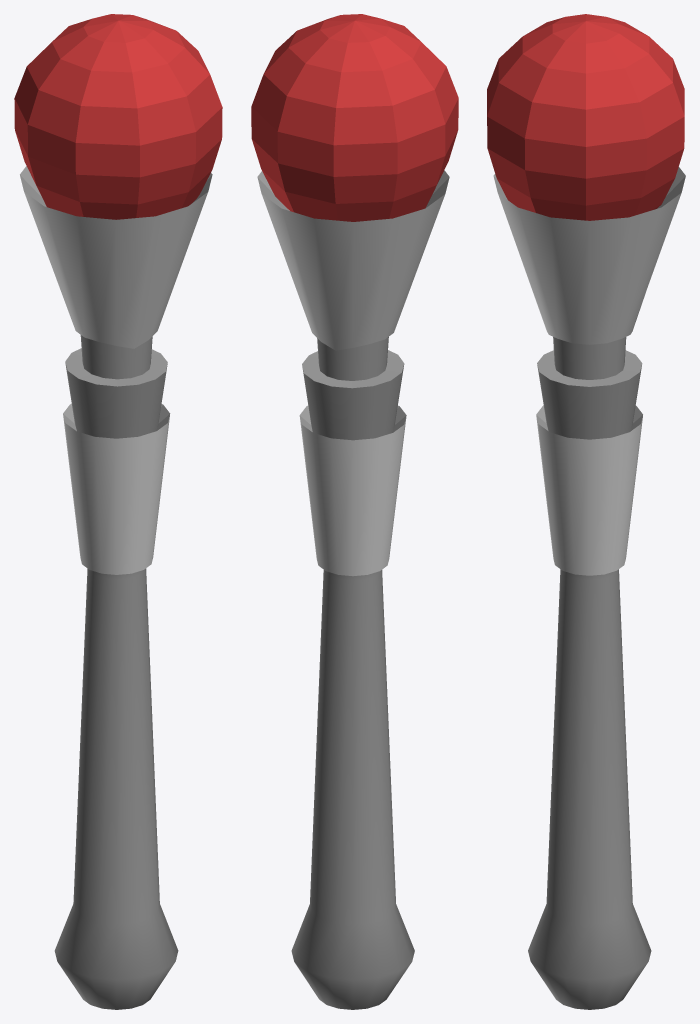
Rendered from Staff1.fbx.
The picture shows the model from 3 angles, left to right: view 1: azimuth 30°, elevation 25°; view 2: azimuth 150°, elevation 25°; view 3: azimuth 270°, elevation 25°; orthographic projection.
Parts seen in each view (by area): view 1: staff, orb; view 2: staff, orb; view 3: staff, orb.
Part boxes in pixels (x1,y1,x2,y2): staff: (20, 166, 212, 1009); orb: (14, 14, 222, 219); staff: (257, 170, 449, 1009); orb: (251, 14, 458, 221); staff: (493, 167, 685, 1009); orb: (487, 14, 684, 220).
Bounding box in the file's own units: 19.82 × 102 × 18.85.
